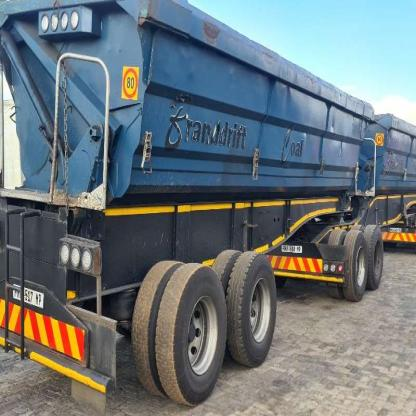dump_truck: (4, 1, 416, 412)
